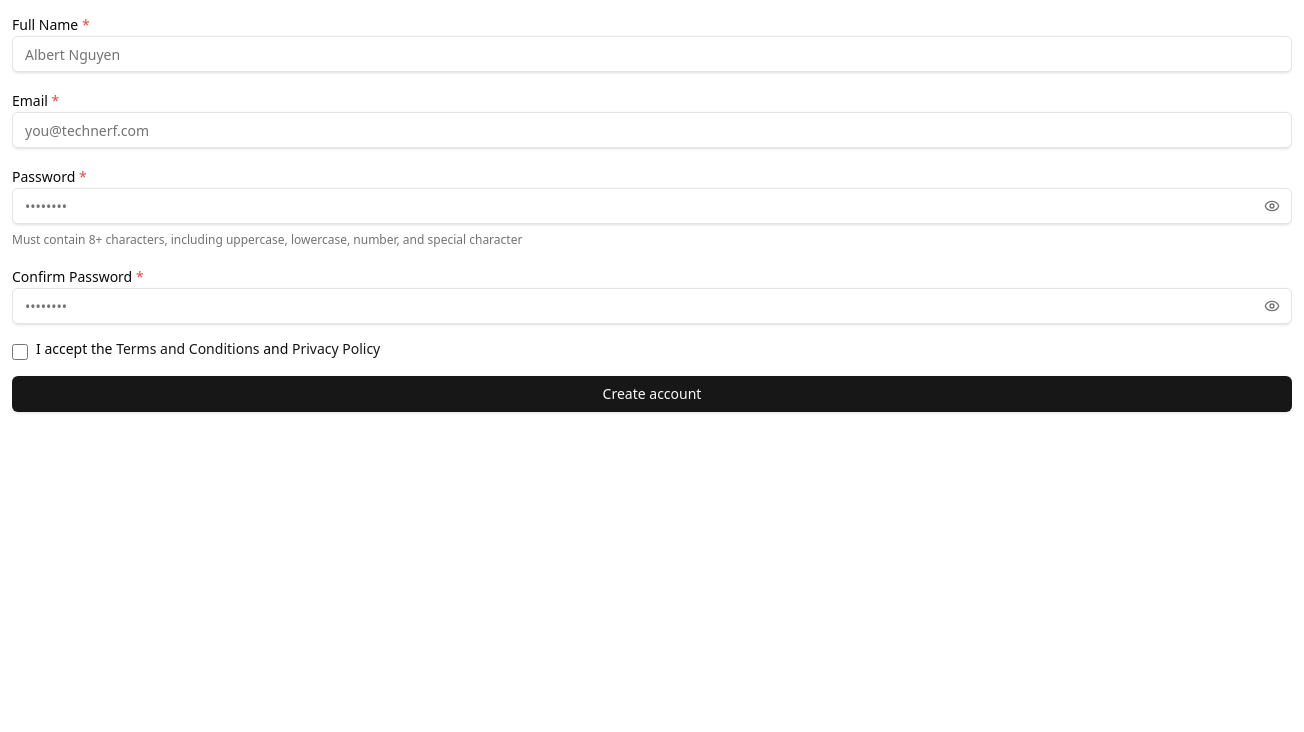
Scenario: RegisterForm › shows validation error for weak password
Type "weakpass" into the password field labelled "Password *".
click(652, 206); type("weakpass")  # box [12,188,1292,224]
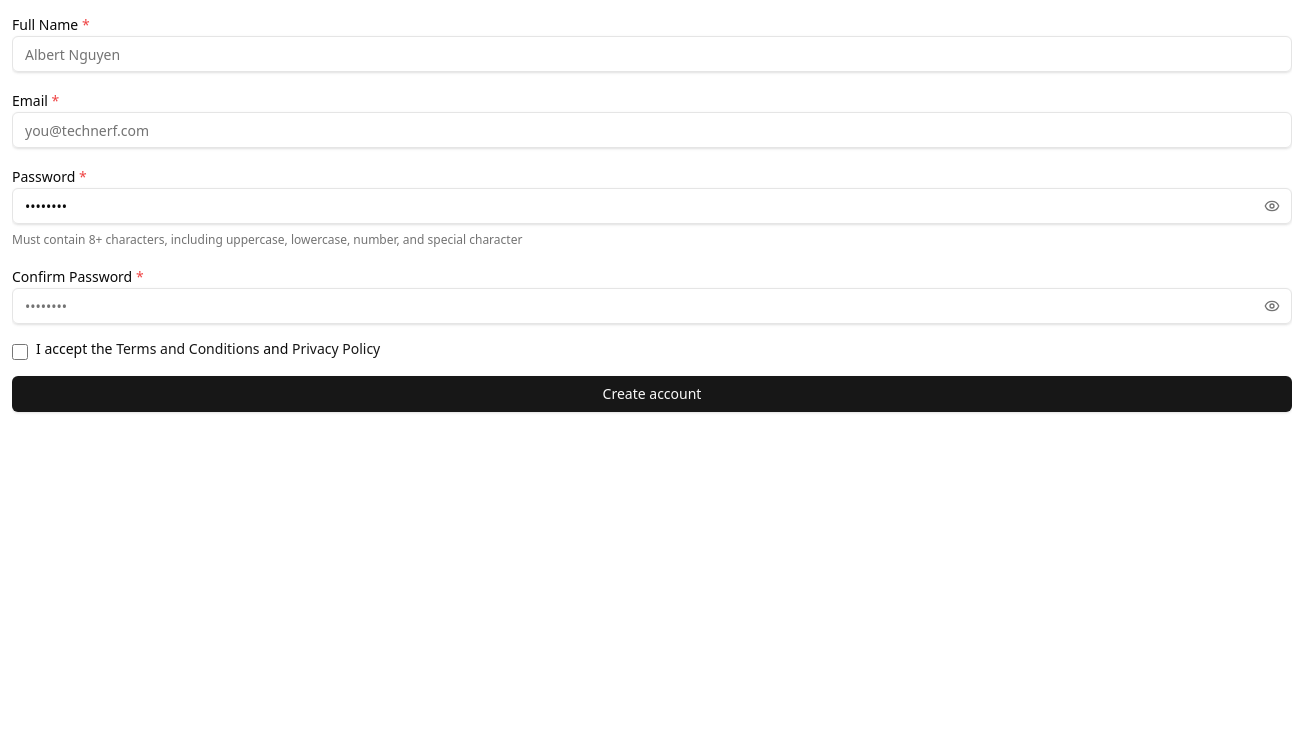
Click the button "Create account".
click(652, 394)  # box [12,376,1292,412]
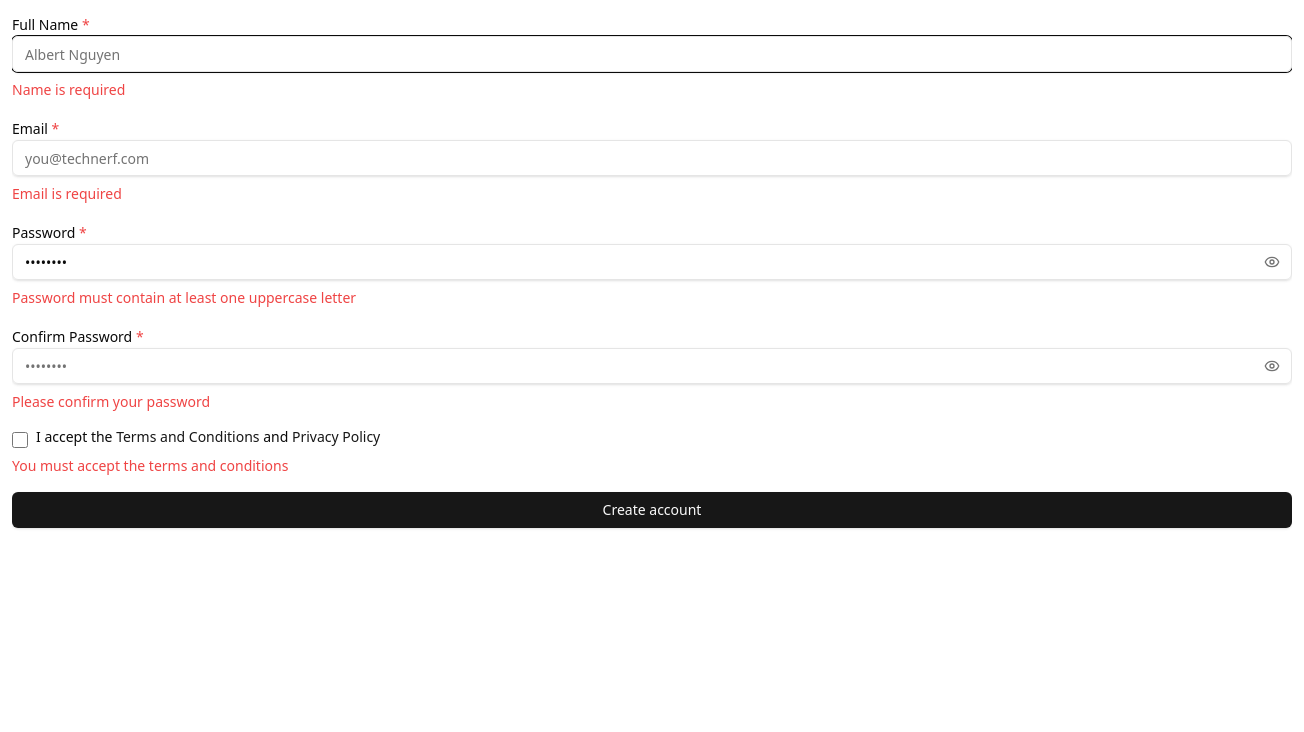
Check: the text "Password must contain at least one uppercase letter" is shown, box [12,288,356,307]
